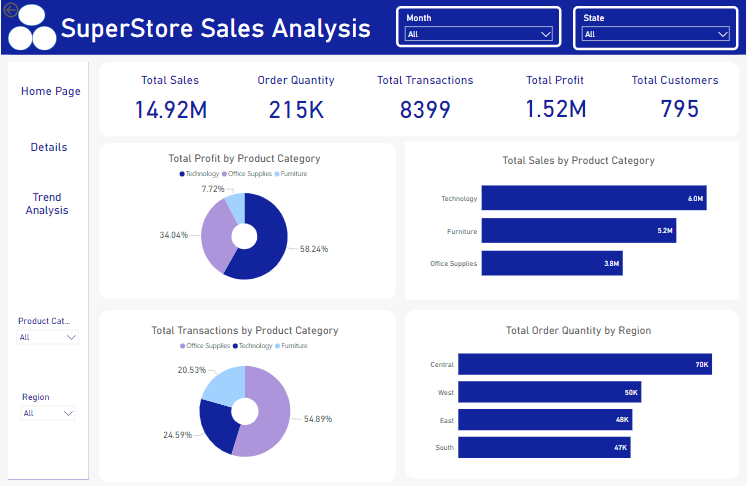

The dashboard page shown, as its layout file describes it:
{"tool":"powerbi","page":{"name":"Home Page","canvas":[1500,980],"ordinal":0},"visuals":[{"type":"shape","box":[35.2,8.1,55.1,44.2],"z":0,"group":"g1"},{"type":"shape","box":[14.2,52.3,49.8,49.4],"z":0,"group":"g2"},{"type":"shape","box":[813.3,284.6,673,319.2],"z":0},{"type":"group","id":"g1","title":"Group 1","box":[35.2,8.1,78.7,93.5],"z":1000,"group":"g2"},{"type":"shape","box":[64,52.3,49.8,49.4],"z":1000,"group":"g1"},{"type":"shape","box":[197.2,624.2,597.8,347.7],"z":1000},{"type":"shape","box":[197.2,288.7,597.8,315.1],"z":2000},{"type":"shape","box":[197.2,124,1289,150.5],"z":3000},{"type":"shape","box":[0,0,1500,110],"z":4000},{"type":"card","title":"Total Sales","fields":{"Values":["Orders (2).Total Sales"]},"box":[237.9,146.4,205.4,105.7],"z":5000},{"type":"card","title":"Order Quantity","fields":{"Values":["Orders (2).Total Order Quantity"]},"box":[490.5,146.4,205.4,105.7],"z":6000},{"type":"card","title":"Total Customers","fields":{"Values":["Calendar.Total Customers"]},"box":[1264.6,146.4,203.3,105.7],"z":7000},{"type":"card","title":"Total Profit","fields":{"Values":["Calendar.Total Profit"]},"box":[1012,146.4,205.4,105.7],"z":8000},{"type":"card","title":"Total Transactions","fields":{"Values":["Calendar.Total Transactions"]},"box":[743.1,146.4,221.6,105.7],"z":9000},{"type":"clusteredBarChart","fields":{"Category":["Orders (2).Product Category"],"Y":["Orders (2).Total Sales"]},"box":[858,309,610,278.5],"z":10000},{"type":"donutChart","fields":{"Y":["Calendar.Total Transactions"],"Category":["Orders (2).Product Category"]},"box":[219.6,652.7,542.9,298.9],"z":11000},{"type":"donutChart","fields":{"Y":["Calendar.Total Profit"],"Category":["Orders (2).Product Category"]},"box":[219.6,305,540.8,286.7],"z":12000},{"type":"shape","box":[813.3,624.2,673,339.5],"z":13000},{"type":"clusteredBarChart","fields":{"Category":["Orders (2).Region"],"Y":["Orders (2).Total Order Quantity"]},"box":[858,652.7,610,298.9],"z":14000},{"type":"shape","box":[14.2,124,162.7,839.7],"z":15000},{"type":"actionButton","box":[34.6,146.4,132.2,71.2],"z":16000},{"type":"actionButton","box":[30.5,264.3,132.2,63],"z":17000},{"type":"textbox","box":[113.9,20.3,813.3,79.3],"z":19000},{"type":"group","id":"g2","title":"Group 2","box":[14.2,8.1,99.6,93.5],"z":20000},{"type":"slicer","fields":{"Values":["Calendar.Month"]},"box":[795,12.2,333.4,83.4],"z":21000},{"type":"slicer","fields":{"Values":["Orders (2).State"]},"box":[1150.8,12.2,333.4,89.5],"z":22000},{"type":"actionButton","box":[0,0,100,40],"z":23000},{"type":"slicer","fields":{"Values":["Orders (2).Product Category"]},"box":[14.2,624.2,158.6,109.8],"z":24000},{"type":"slicer","fields":{"Values":["Orders (2).Region"]},"box":[22.4,776.7,144.4,95.6],"z":25000},{"type":"actionButton","box":[26.4,374.1,132.2,71.2],"z":26000}]}

Visuals, with their boxes in screenshot pixels (x1, y1, x2, y2), scaled from the page's 1500x980 canvas onto the 747x486 screenshot:
shape: [x1=18, y1=4, x2=45, y2=26]
shape: [x1=7, y1=26, x2=32, y2=50]
shape: [x1=405, y1=141, x2=740, y2=299]
"Group 1" group: [x1=18, y1=4, x2=57, y2=50]
shape: [x1=32, y1=26, x2=57, y2=50]
shape: [x1=98, y1=310, x2=396, y2=482]
shape: [x1=98, y1=143, x2=396, y2=299]
shape: [x1=98, y1=61, x2=740, y2=136]
shape: [x1=0, y1=0, x2=746, y2=55]
"Total Sales" card: [x1=118, y1=73, x2=221, y2=125]
"Order Quantity" card: [x1=244, y1=73, x2=347, y2=125]
"Total Customers" card: [x1=630, y1=73, x2=731, y2=125]
"Total Profit" card: [x1=504, y1=73, x2=606, y2=125]
"Total Transactions" card: [x1=370, y1=73, x2=480, y2=125]
clusteredBarChart - Orders (2).Product Category x Orders (2).Total Sales: [x1=427, y1=153, x2=731, y2=291]
donutChart - Calendar.Total Transactions x Orders (2).Product Category: [x1=109, y1=324, x2=380, y2=472]
donutChart - Calendar.Total Profit x Orders (2).Product Category: [x1=109, y1=151, x2=379, y2=293]
shape: [x1=405, y1=310, x2=740, y2=478]
clusteredBarChart - Orders (2).Region x Orders (2).Total Order Quantity: [x1=427, y1=324, x2=731, y2=472]
shape: [x1=7, y1=61, x2=88, y2=478]
actionButton: [x1=17, y1=73, x2=83, y2=108]
actionButton: [x1=15, y1=131, x2=81, y2=162]
textbox: [x1=57, y1=10, x2=462, y2=49]
"Group 2" group: [x1=7, y1=4, x2=57, y2=50]
slicer - Calendar.Month: [x1=396, y1=6, x2=562, y2=47]
slicer - Orders (2).State: [x1=573, y1=6, x2=739, y2=50]
actionButton: [x1=0, y1=0, x2=50, y2=20]
slicer - Orders (2).Product Category: [x1=7, y1=310, x2=86, y2=364]
slicer - Orders (2).Region: [x1=11, y1=385, x2=83, y2=433]
actionButton: [x1=13, y1=186, x2=79, y2=221]
